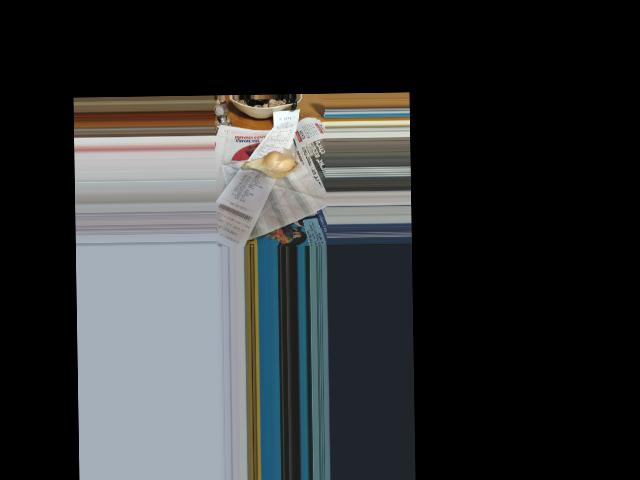onion: (247, 149, 298, 180)
